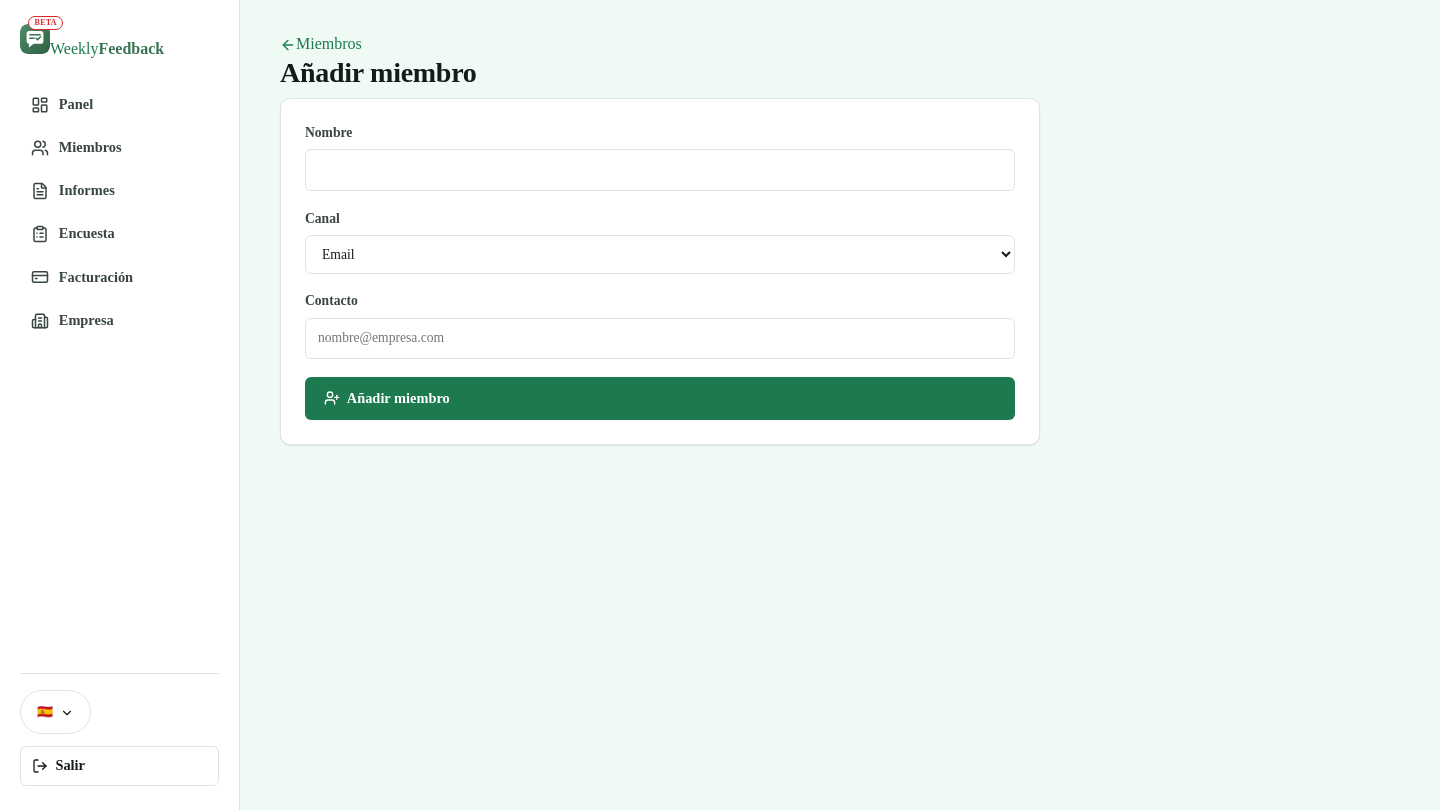
NewMemberPage › fallo al añadir: muestra el mensaje real del backend, no navega
Type "Ana" into the field labelled "Nombre".
click(660, 170); type("Ana")  # box [305,149,1015,191]
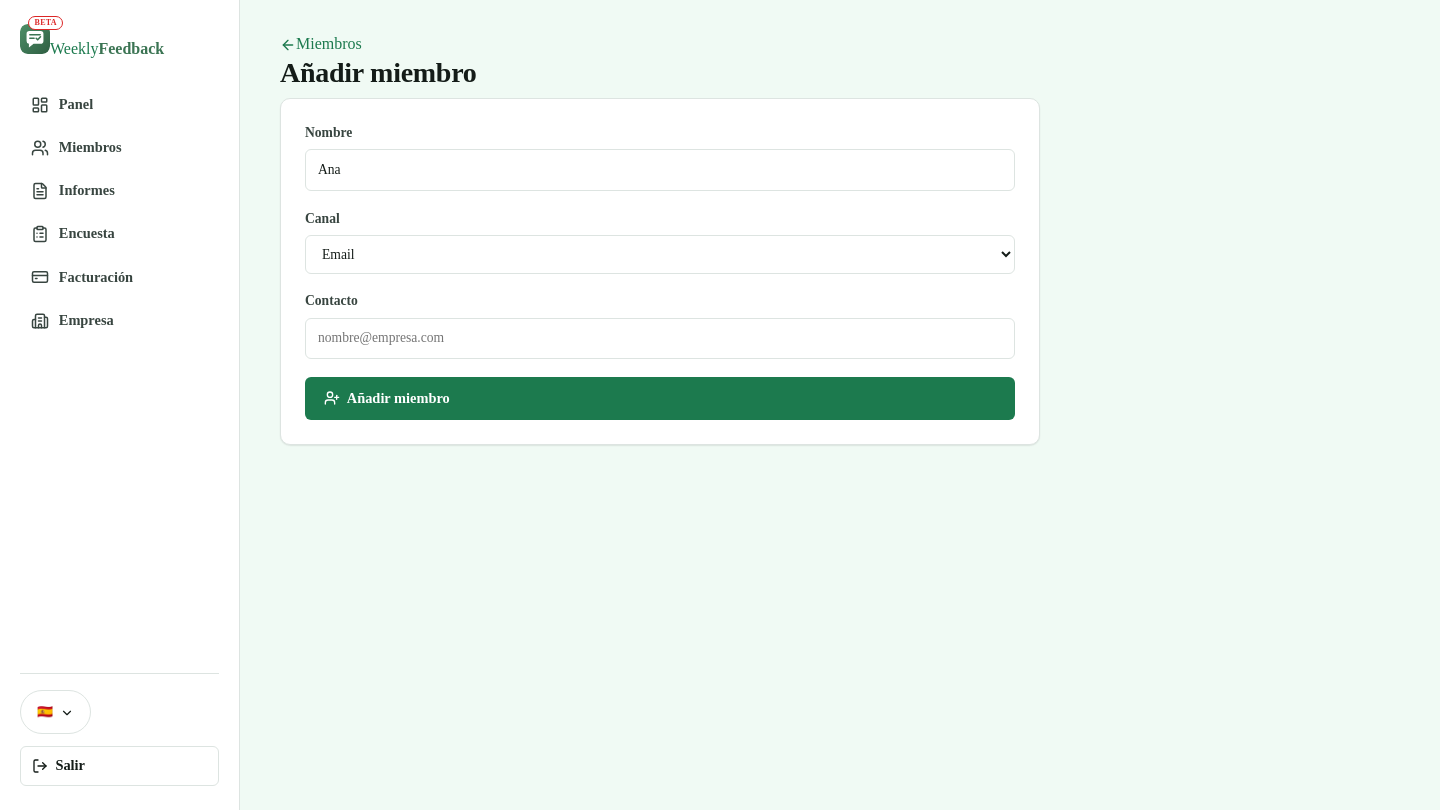
Type "ana@example.com" into the field with placeholder "nombre@empresa.com".
click(660, 339); type("ana@example.com")  # box [305,318,1015,360]
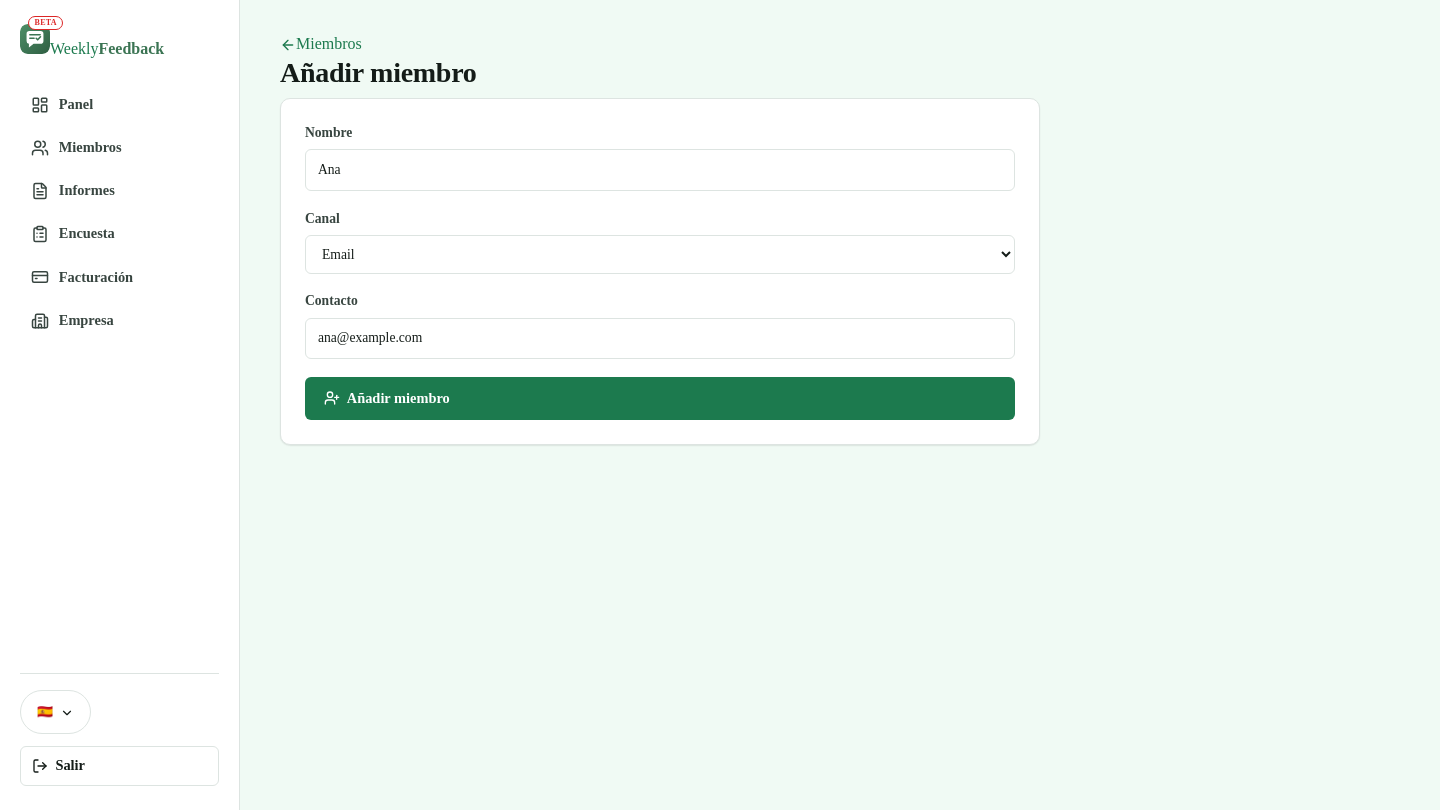
Click the button "Añadir miembro".
click(398, 398)  # box [305,377,1015,420]
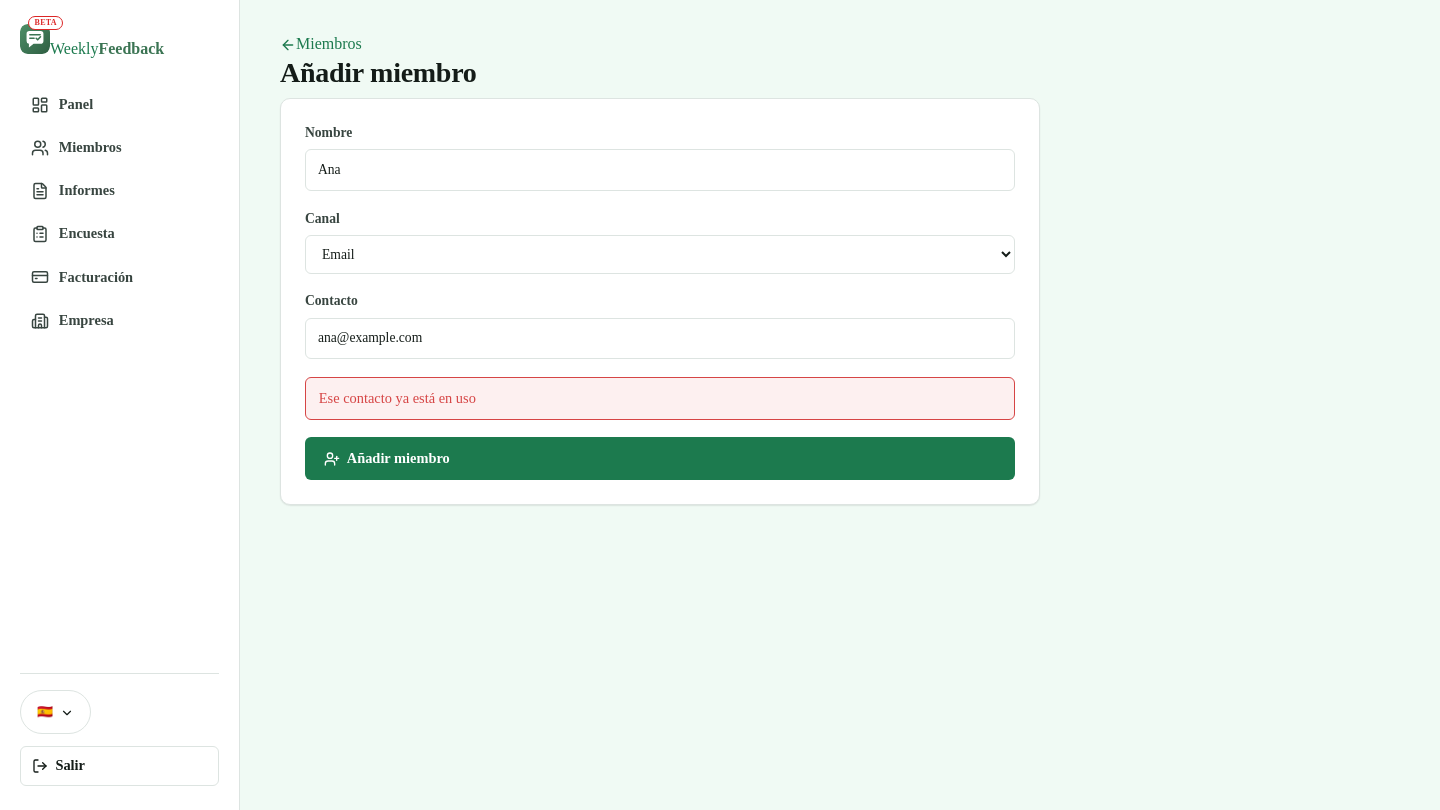
Now the message reads "Ese contacto ya está en uso", box [319,390,476,406]
